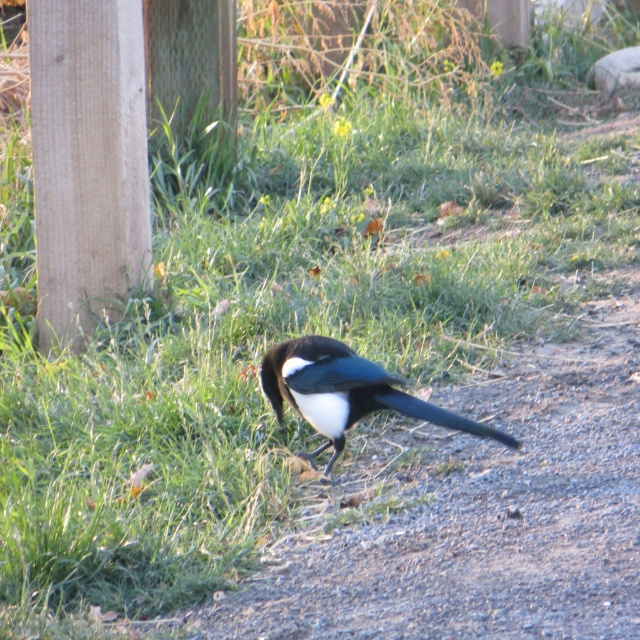Magpie: (261, 335, 522, 477)
